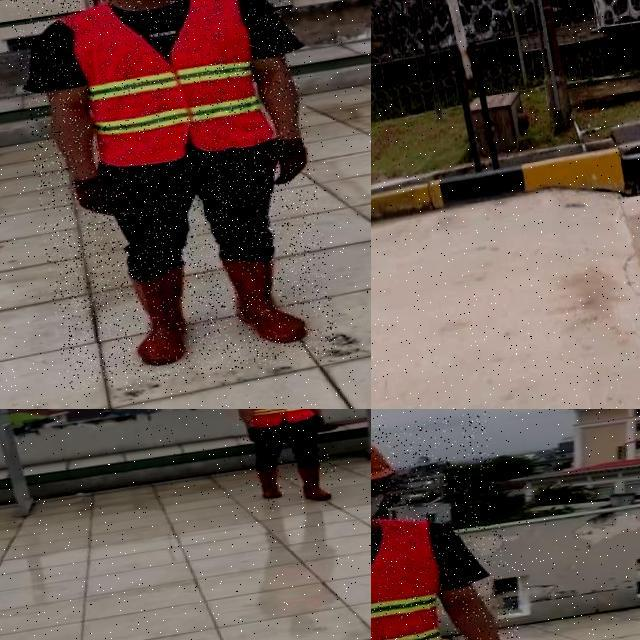boots: (212, 248, 310, 350), (129, 266, 196, 364), (296, 462, 337, 504), (253, 465, 284, 497)
helmet: (371, 423, 406, 497)
vest: (58, 0, 274, 171), (371, 516, 451, 640), (239, 409, 317, 430)
